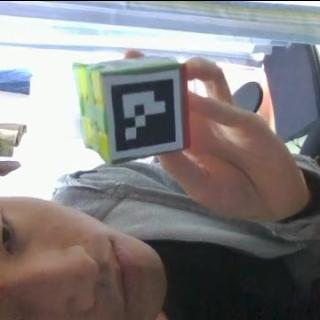armor: (104, 68, 182, 158)
robot: (74, 59, 188, 165)
